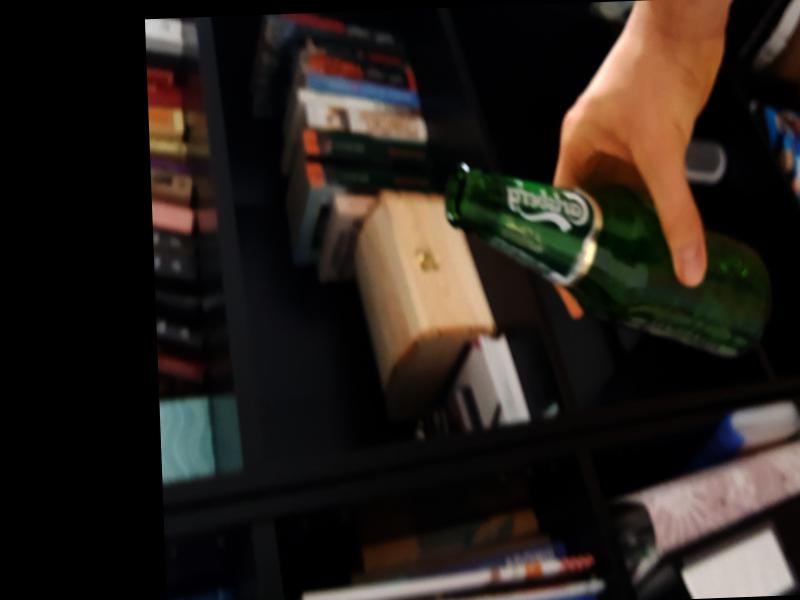Beer: (444, 155, 774, 373)
